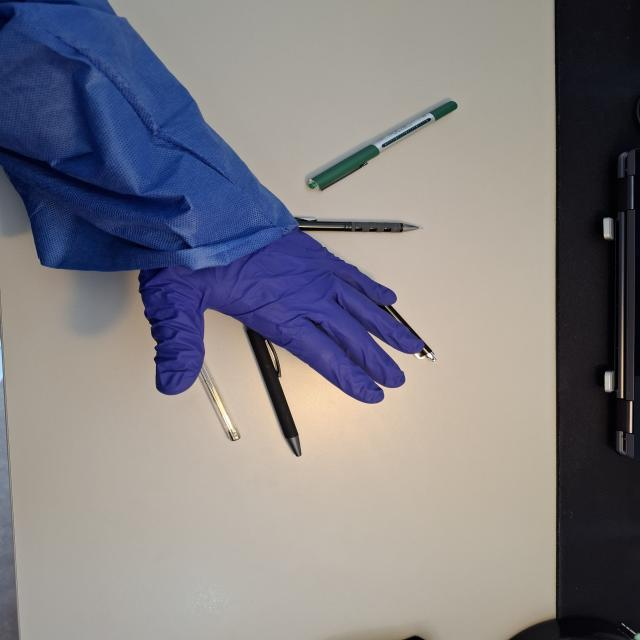glove_on: (131, 212, 428, 405)
